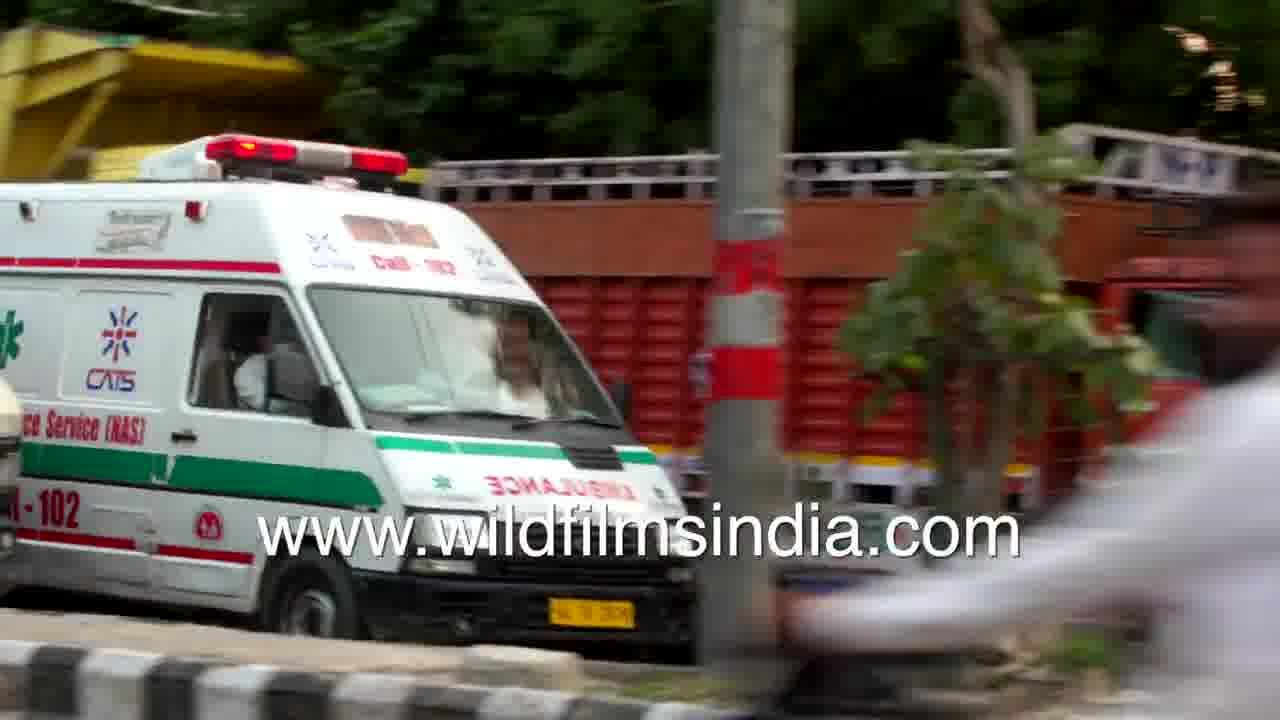AMBULANCE: (4, 95, 739, 685)
